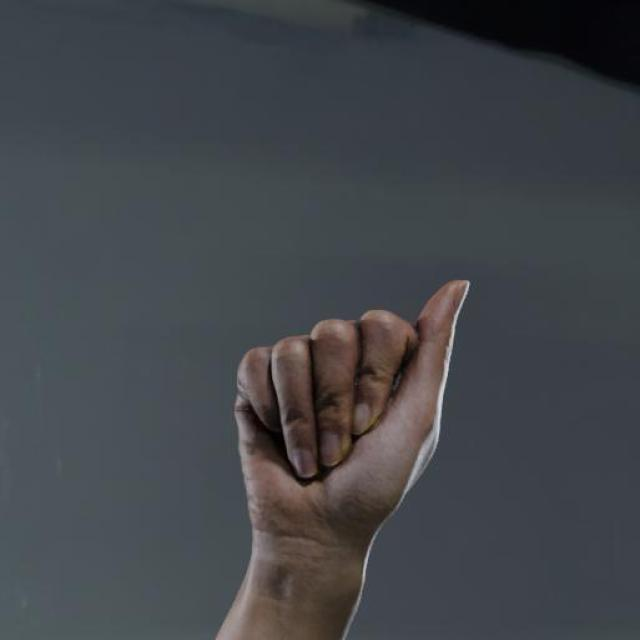A: (224, 273, 476, 562)
